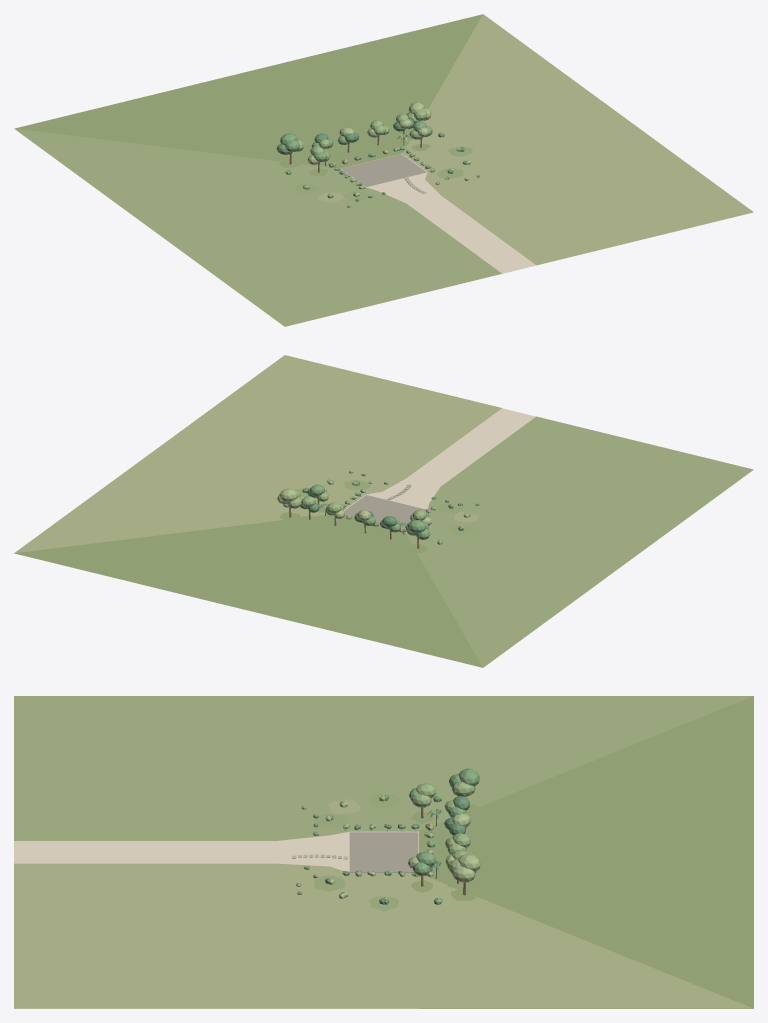
File: RumahLandscape.fbx
3 renders of one model, top to bottom at view 1: azimuth 30°, elevation 25°; view 2: azimuth 150°, elevation 25°; view 3: azimuth 270°, elevation 25°, orthographic. The views are drawn at different scales.
Visible parts, largest first — view 1: Rumah_Landscape_Grass_2, Rumah_Landscape_Grass_1, Rumah_Landscape_Grass_0, Rumah_Landscape_Packed_Earth, Rumah_Landscape_Foundation, Rumah_Landscape_Leaf_2, Rumah_Landscape_Leaf_1, Rumah_Landscape_Leaf_3, Rumah_Landscape_Grass_3, Rumah_Landscape_Leaf_0; view 2: Rumah_Landscape_Grass_1, Rumah_Landscape_Grass_2, Rumah_Landscape_Grass_0, Rumah_Landscape_Packed_Earth, Rumah_Landscape_Foundation, Rumah_Landscape_Leaf_2, Rumah_Landscape_Leaf_1, Rumah_Landscape_Leaf_3, Rumah_Landscape_Grass_3, Rumah_Landscape_Leaf_0; view 3: Rumah_Landscape_Grass_2, Rumah_Landscape_Grass_1, Rumah_Landscape_Grass_0, Rumah_Landscape_Packed_Earth, Rumah_Landscape_Foundation, Rumah_Landscape_Leaf_2, Rumah_Landscape_Leaf_1, Rumah_Landscape_Grass_3, Rumah_Landscape_Leaf_3, Rumah_Landscape_Leaf_0.
Part boxes in pixels (x1=…): Rumah_Landscape_Grass_2: x1=317, y1=14, x2=753, y2=265; Rumah_Landscape_Grass_1: x1=14, y1=128, x2=501, y2=326; Rumah_Landscape_Grass_0: x1=15, y1=14, x2=482, y2=175; Rumah_Landscape_Packed_Earth: x1=138, y1=153, x2=753, y2=326; Rumah_Landscape_Foundation: x1=341, y1=154, x2=426, y2=187; Rumah_Landscape_Leaf_2: x1=285, y1=109, x2=478, y2=189; Rumah_Landscape_Leaf_1: x1=277, y1=121, x2=480, y2=207; Rumah_Landscape_Leaf_3: x1=304, y1=102, x2=471, y2=205; Rumah_Landscape_Grass_3: x1=294, y1=146, x2=473, y2=201; Rumah_Landscape_Leaf_0: x1=289, y1=118, x2=467, y2=205; Rumah_Landscape_Grass_1: x1=404, y1=416, x2=753, y2=667; Rumah_Landscape_Grass_2: x1=14, y1=355, x2=501, y2=553; Rumah_Landscape_Grass_0: x1=14, y1=505, x2=482, y2=667; Rumah_Landscape_Packed_Earth: x1=344, y1=408, x2=751, y2=573; Rumah_Landscape_Foundation: x1=344, y1=495, x2=425, y2=528; Rumah_Landscape_Leaf_2: x1=284, y1=471, x2=462, y2=544; Rumah_Landscape_Leaf_1: x1=283, y1=471, x2=479, y2=542; Rumah_Landscape_Leaf_3: x1=277, y1=473, x2=476, y2=529; Rumah_Landscape_Grass_3: x1=295, y1=479, x2=473, y2=535; Rumah_Landscape_Leaf_0: x1=285, y1=473, x2=478, y2=544; Rumah_Landscape_Grass_2: x1=14, y1=799, x2=753, y2=1008; Rumah_Landscape_Grass_1: x1=14, y1=696, x2=753, y2=840; Rumah_Landscape_Grass_0: x1=410, y1=696, x2=753, y2=1008; Rumah_Landscape_Packed_Earth: x1=14, y1=831, x2=418, y2=1008; Rumah_Landscape_Foundation: x1=349, y1=832, x2=418, y2=872; Rumah_Landscape_Leaf_2: x1=300, y1=782, x2=476, y2=902; Rumah_Landscape_Leaf_1: x1=297, y1=768, x2=479, y2=904; Rumah_Landscape_Grass_3: x1=314, y1=794, x2=400, y2=911; Rumah_Landscape_Leaf_3: x1=297, y1=795, x2=480, y2=898; Rumah_Landscape_Leaf_0: x1=296, y1=795, x2=469, y2=904.
Bounding box in the file's own units: 11000 × 707 × 11000.
